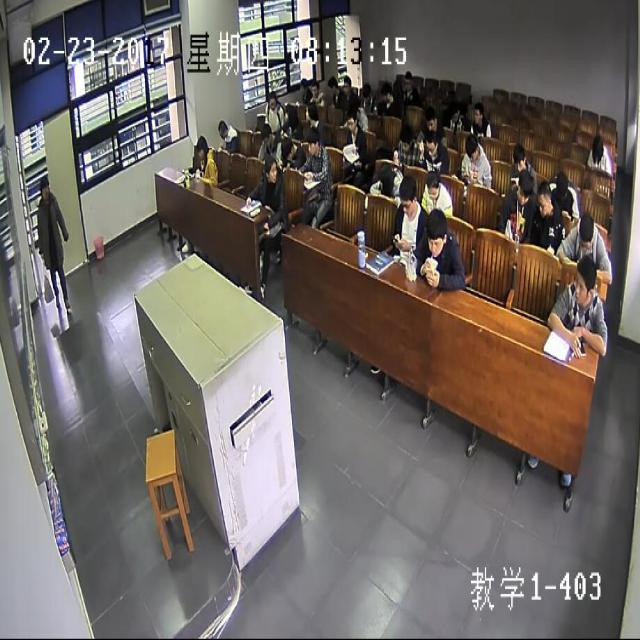person: (571, 250, 598, 304), (426, 210, 448, 258), (576, 209, 597, 252), (399, 170, 418, 217), (536, 174, 554, 220), (516, 166, 532, 205), (425, 169, 441, 206), (554, 167, 570, 200), (465, 132, 481, 164), (510, 141, 526, 172), (376, 159, 391, 189), (265, 154, 279, 185), (303, 97, 319, 124), (423, 130, 438, 158), (283, 103, 299, 126), (424, 104, 437, 132), (197, 133, 210, 160), (281, 133, 294, 160), (399, 123, 412, 149), (447, 96, 460, 122), (591, 132, 603, 160), (39, 174, 52, 198), (260, 122, 273, 146), (308, 128, 320, 154), (472, 100, 485, 124), (344, 109, 356, 133), (218, 116, 229, 140), (268, 86, 278, 112), (327, 76, 338, 96), (348, 94, 359, 114), (380, 80, 390, 99), (298, 76, 307, 95), (341, 74, 350, 93), (310, 79, 320, 96), (361, 82, 370, 100), (403, 68, 411, 85)
